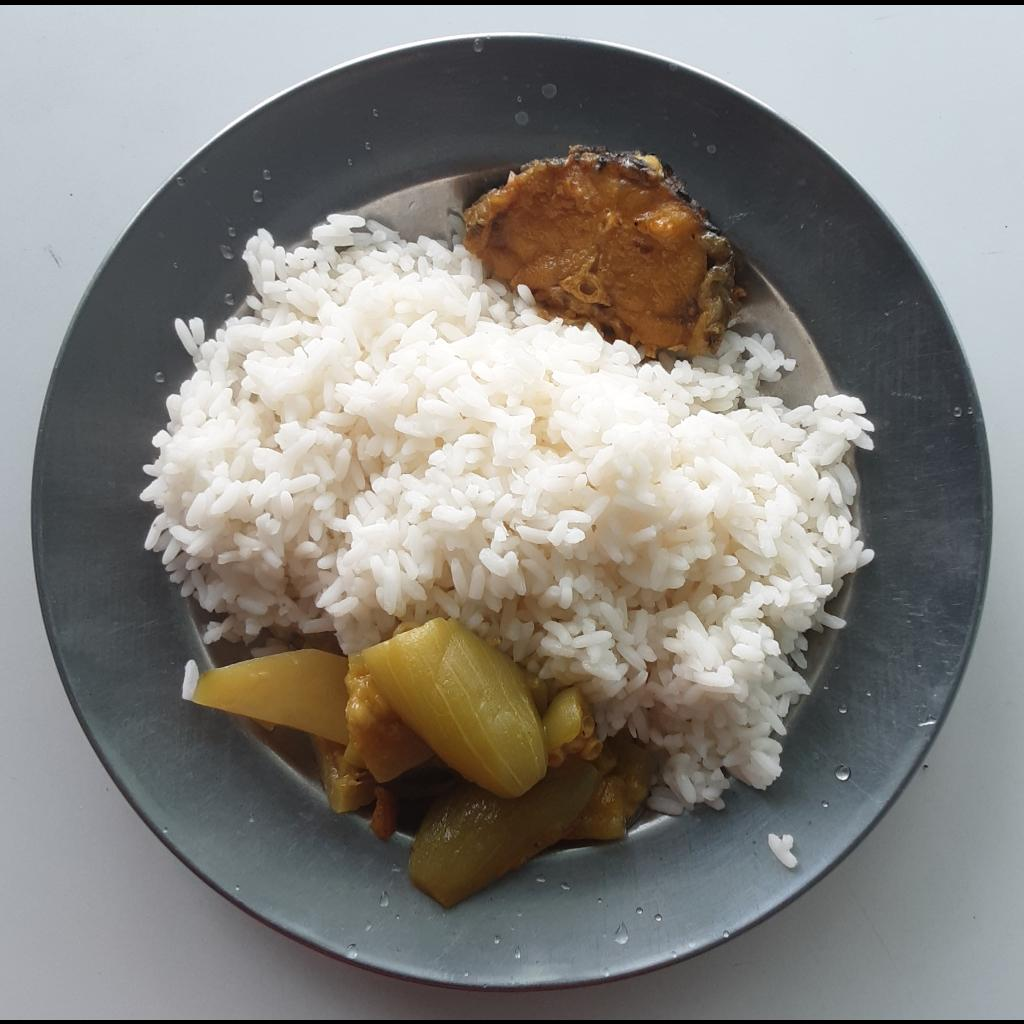fish: (462, 150, 751, 360)
potol: (203, 616, 658, 914)
rice: (136, 210, 878, 809), (771, 834, 802, 868)
